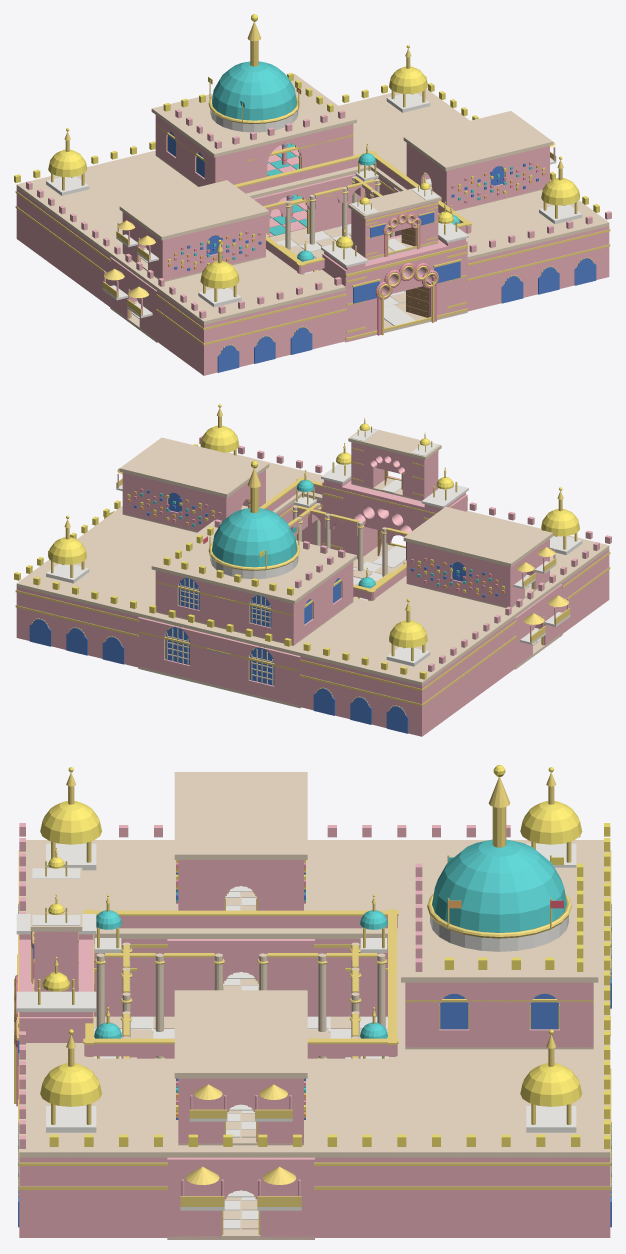
Rendered from rajasthani_mahal_mega.glb.
The picture shows the model from 3 angles, top to bottom: view 1: azimuth 30°, elevation 25°; view 2: azimuth 150°, elevation 25°; view 3: azimuth 270°, elevation 25°; orthographic projection. The views are drawn at different scales.
Visible parts, largest first — view 1: rajasthani_mahal_mega; view 2: rajasthani_mahal_mega; view 3: rajasthani_mahal_mega.
Part boxes in pixels (<box>): rajasthani_mahal_mega: <box>14,14,611,375</box>; rajasthani_mahal_mega: <box>14,404,611,736</box>; rajasthani_mahal_mega: <box>14,765,611,1239</box>.
Bounding box in the file's own units: 54 × 23.78 × 40.48.
